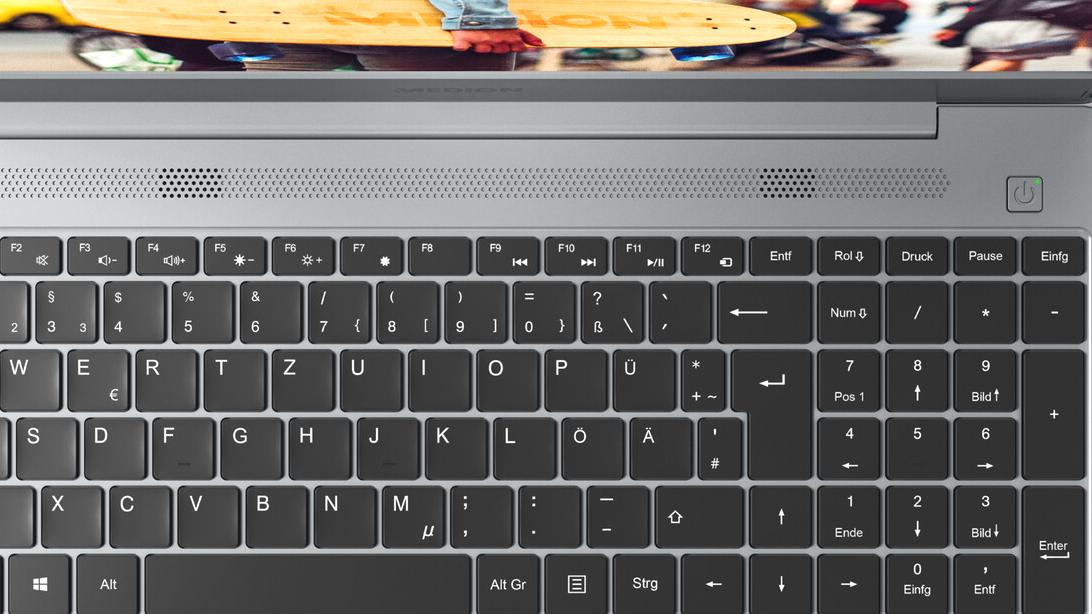0: (507, 275, 573, 342)
1: (1, 275, 32, 340)
2: (1, 275, 33, 341)
3: (29, 274, 95, 341)
4: (99, 274, 161, 339)
5: (166, 275, 230, 341)
6: (236, 275, 299, 341)
7: (304, 275, 368, 342)
8: (372, 275, 435, 342)
9: (441, 275, 505, 342)
a: (1, 410, 32, 477)
accent: (645, 275, 708, 341)
ae: (625, 411, 689, 477)
alt-left: (72, 548, 138, 614)
altgr-right: (472, 548, 538, 614)
b: (239, 479, 305, 546)
c: (104, 479, 168, 546)
caret: (1, 274, 32, 340)
comma: (445, 479, 509, 546)
d: (78, 411, 142, 477)
del: (714, 275, 809, 341)
e: (62, 343, 126, 410)
enter: (727, 343, 809, 478)
f: (147, 411, 211, 477)
g: (216, 411, 278, 477)
h: (284, 411, 346, 476)
hash: (694, 411, 739, 478)
i: (404, 344, 466, 408)
j: (352, 411, 415, 477)
k: (420, 411, 484, 477)
keyboard: (1, 211, 1092, 614)
l: (489, 412, 551, 477)
less: (1, 478, 33, 546)
m: (377, 480, 441, 547)
minus: (581, 479, 646, 545)
n: (308, 480, 373, 546)
o: (471, 343, 535, 409)
oe: (556, 412, 620, 477)
p: (539, 343, 604, 409)
plus: (677, 343, 722, 409)
point: (514, 480, 577, 545)
q: (1, 343, 33, 409)
r: (131, 344, 193, 409)
s: (10, 411, 73, 477)
shift-left: (1, 479, 35, 546)
shift-lock: (1, 410, 57, 477)
shift-right: (651, 479, 741, 546)
space: (141, 547, 469, 614)
ss: (576, 275, 640, 341)
strg-left: (1, 548, 55, 614)
strg-right: (608, 548, 675, 614)
t: (200, 344, 262, 408)
tab: (1, 342, 48, 408)
u: (335, 344, 398, 410)
ue: (608, 343, 673, 411)
v: (173, 480, 236, 545)
w: (1, 342, 55, 409)
x: (36, 480, 99, 546)
y: (1, 480, 32, 546)
z: (267, 343, 331, 410)
